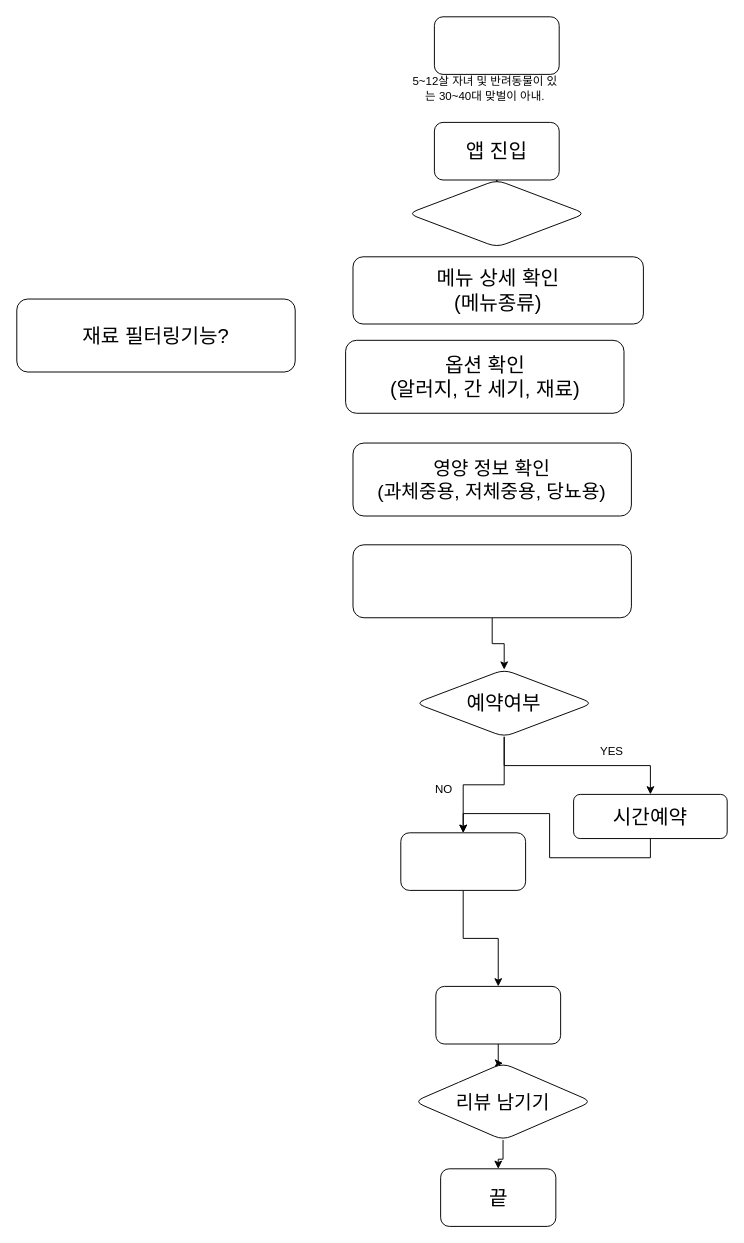
The diagram is 744 pixels wide and 1243 high, and some of its shapes have lost their labels. The centre of each missing label's shape, as x and y in pixels:
"가게 선택" belongs at (x=491, y=581).
"메뉴 고민" belongs at (x=496, y=213).
"배달 수령 및 식사 후" belongs at (x=498, y=1014).
"시작" belongs at (x=496, y=45).
"주문 결정 및 결제" belongs at (x=463, y=861).
